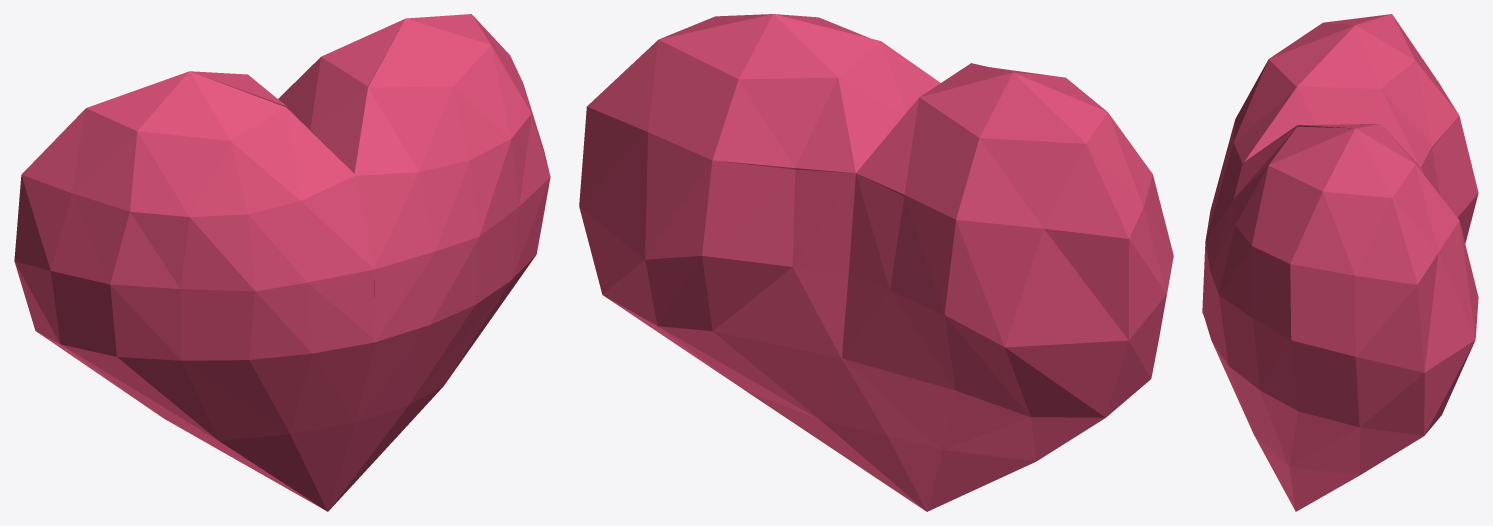
File: 1fixheart.glb
The picture shows the model from 3 angles, left to right: view 1: azimuth 30°, elevation 25°; view 2: azimuth 150°, elevation 25°; view 3: azimuth 270°, elevation 25°; orthographic projection. The views are drawn at different scales.
Visible parts, largest first — view 1: origin; view 2: origin, Heart.2_cell.064; view 3: origin.
Part boxes in pixels (left/top/right/bottom): origin: left=14, top=14, right=550, bottom=511; origin: left=579, top=14, right=1173, bottom=511; Heart.2_cell.064: left=777, top=313, right=841, bottom=388; origin: left=1202, top=14, right=1478, bottom=511.
Size of the model in its own units: 72.01 by 61.77 by 35.53.
